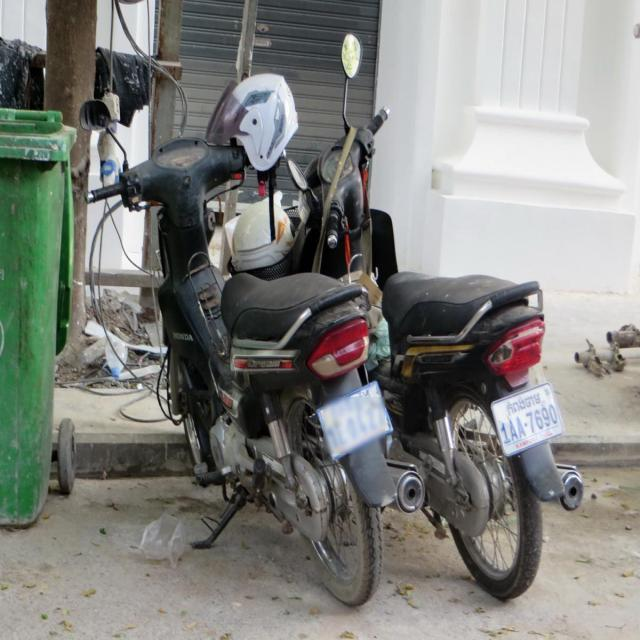Kampong_Cham: (506, 391, 542, 414)
